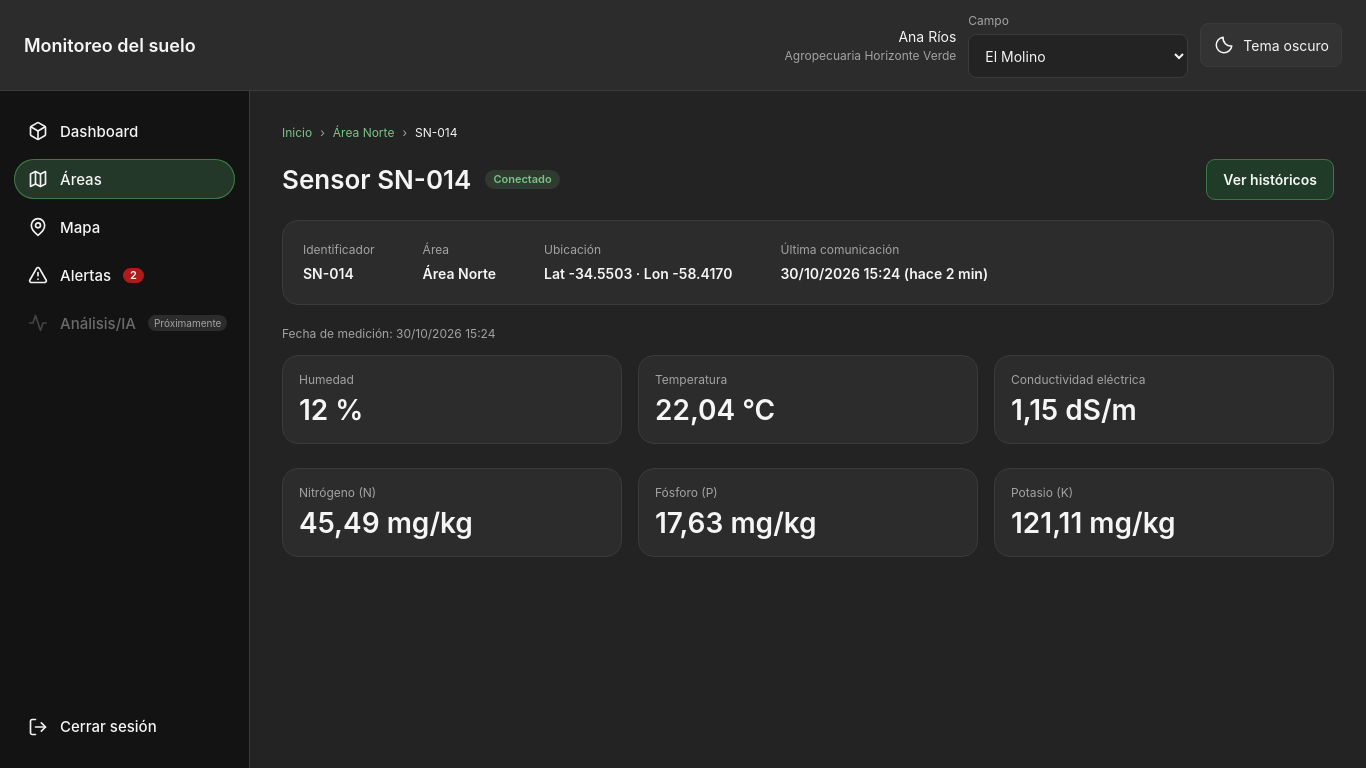
sensor e histórico con el campo de la sesión › permite ir del sensor propio a su histórico con las mediciones y filtros existentes
Check: the heading "Sensor SN-014" is shown, box x1=282 y1=163 x2=471 y2=196
Check: the text "12 %" is shown, box x1=299 y1=393 x2=364 y2=427
Click the link "Ver históricos".
click(1270, 180)  # box x1=1206 y1=159 x2=1334 y2=200
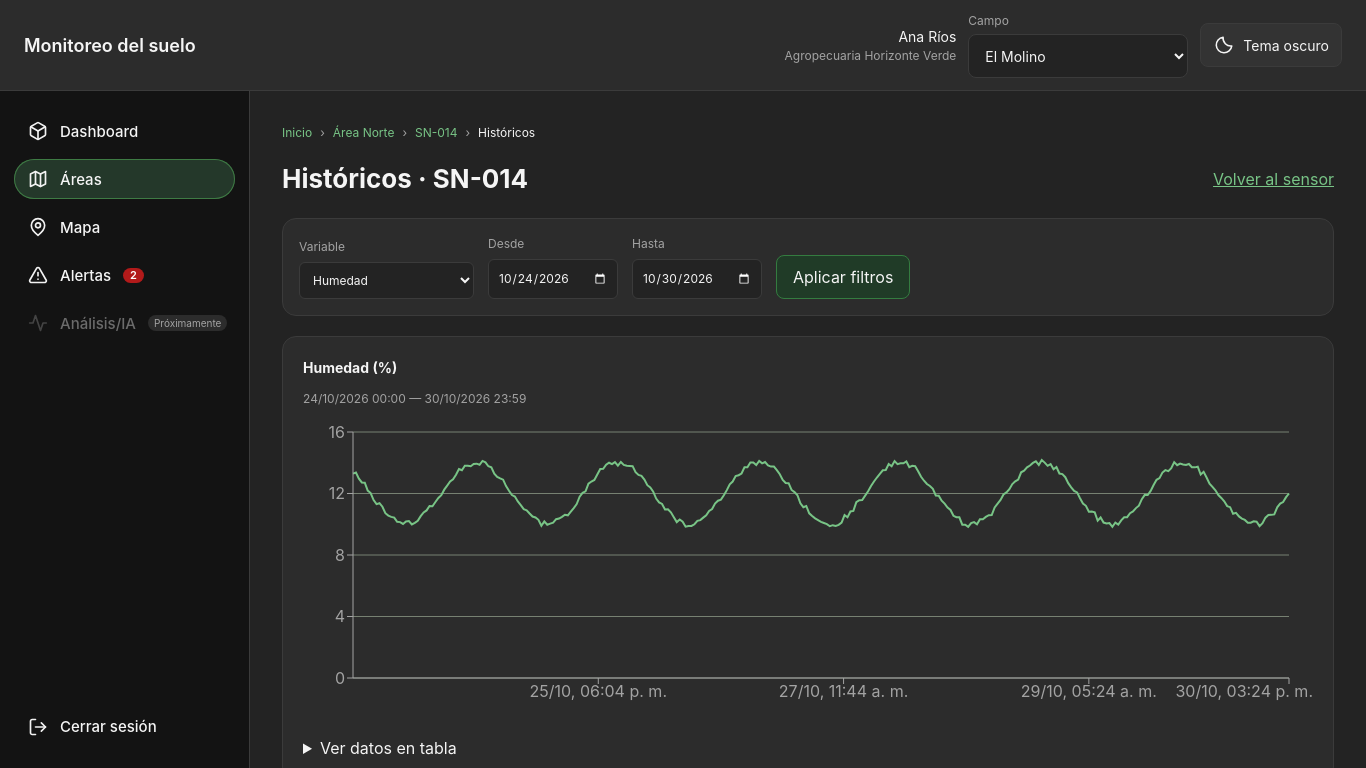
Check: the heading "Históricos · SN-014" is shown, box x1=282 y1=159 x2=528 y2=198
Check: the dropdown labelled "Variable" shows "Humedad", box x1=299 y1=262 x2=474 y2=299
Check: the button "Aplicar filtros" is shown, box x1=776 y1=255 x2=910 y2=299
